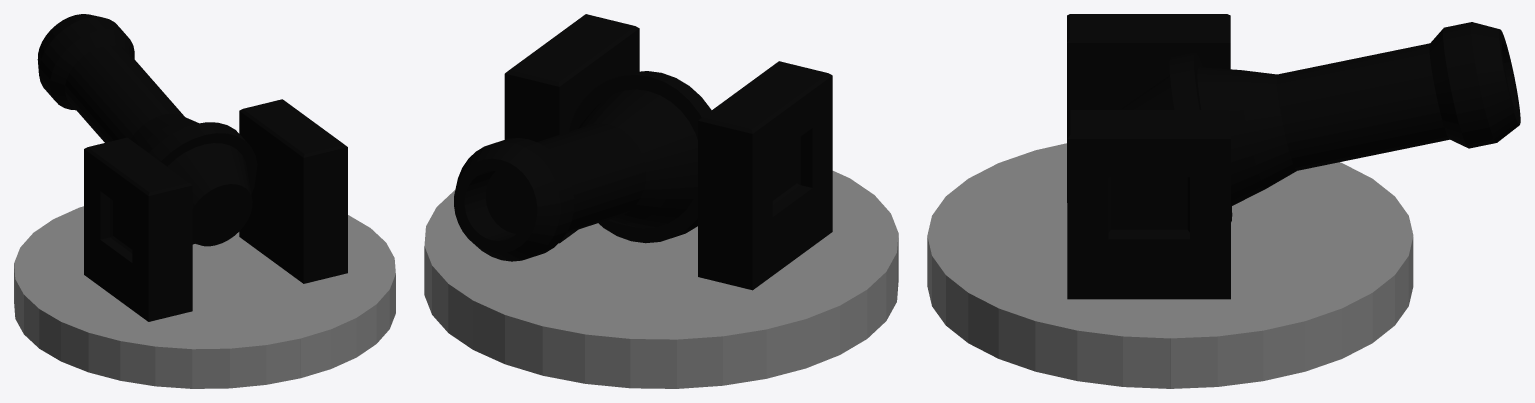
Rendered from Canon__.fbx.
3 renders of one model, left to right at view 1: azimuth 30°, elevation 25°; view 2: azimuth 150°, elevation 25°; view 3: azimuth 270°, elevation 25°, orthographic. The views are drawn at different scales.
Parts seen in each view (by area): view 1: Circle.001, Cube, Circle; view 2: Circle.001, Cube, Circle; view 3: Circle.001, Cube, Circle.
Part boxes in pixels (x1,y1,x2,y2): Circle.001: [14, 206, 395, 388]; Cube: [84, 99, 347, 321]; Circle: [37, 14, 257, 246]; Circle.001: [424, 171, 898, 388]; Cube: [504, 14, 832, 290]; Circle: [454, 71, 711, 261]; Circle.001: [927, 143, 1413, 388]; Cube: [1067, 14, 1230, 299]; Circle: [1122, 22, 1520, 221].
Bounding box in the file's own units: 417 × 244 × 508.
